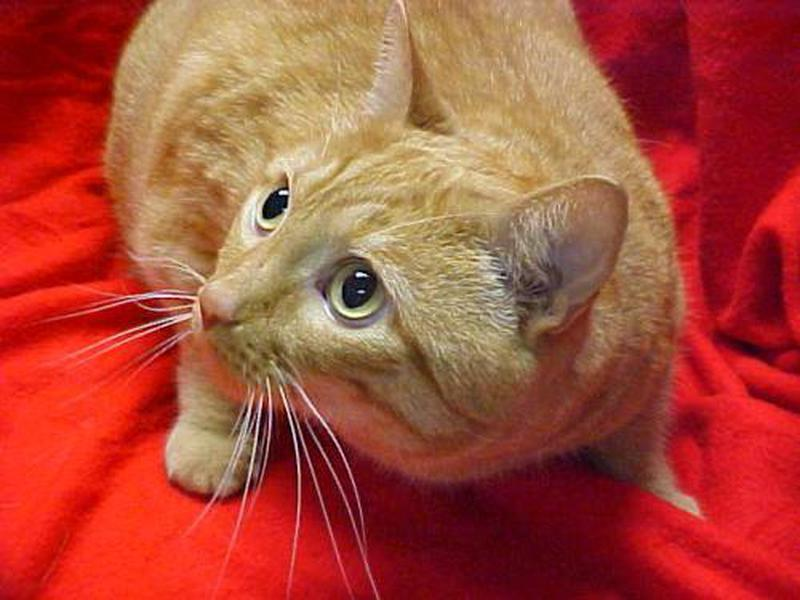cat: (88, 2, 713, 598)
